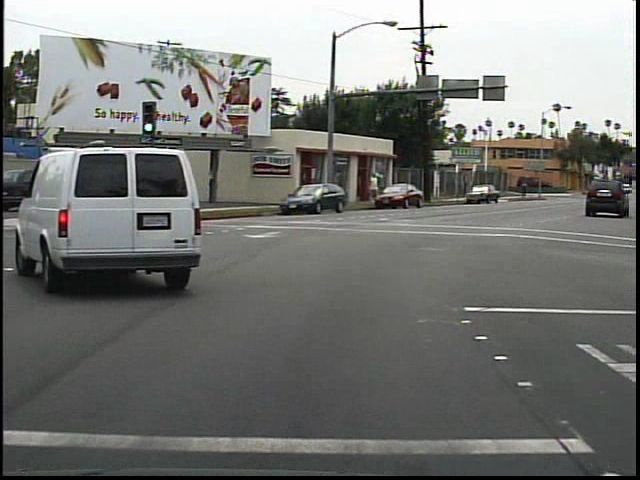person: (365, 169, 383, 208), (518, 178, 530, 200)
